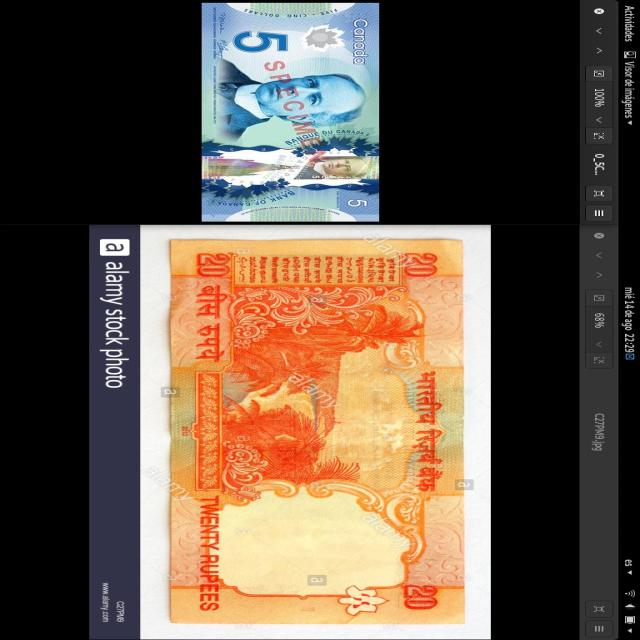20IndianRupees: (160, 240, 462, 626)
